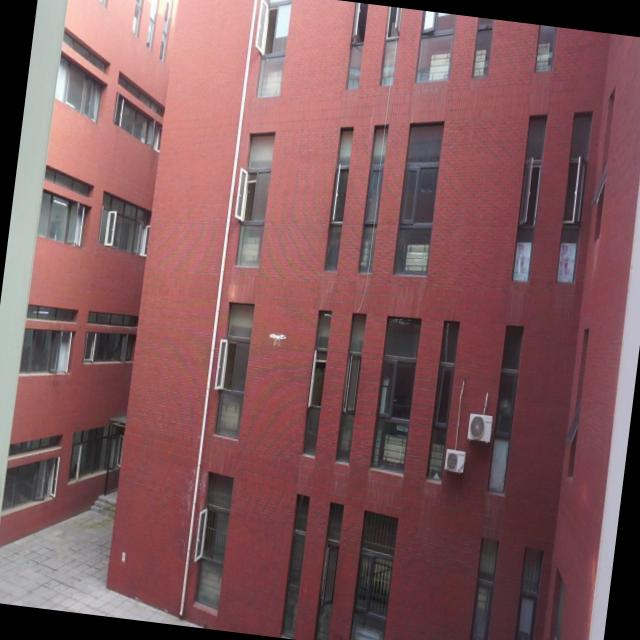drone: (266, 327, 290, 351)
